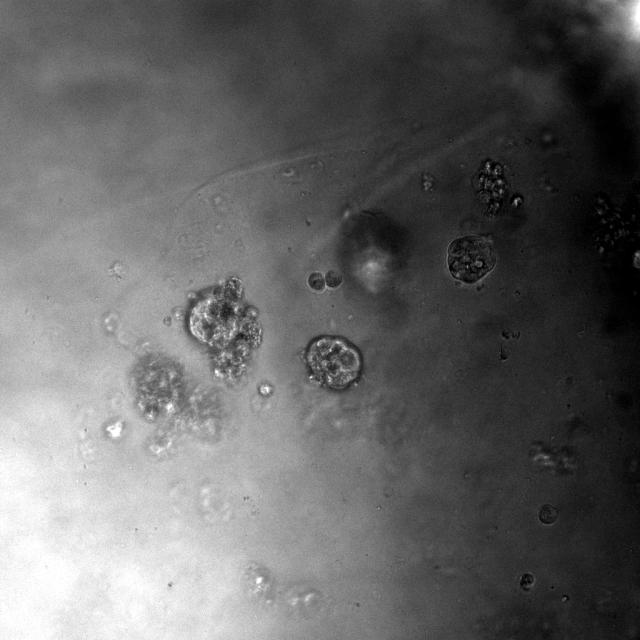organoid: (129, 351, 226, 458), (185, 277, 262, 379), (304, 334, 363, 391), (473, 158, 522, 218), (447, 235, 496, 286), (308, 269, 342, 292), (538, 505, 558, 524), (519, 572, 535, 592)
